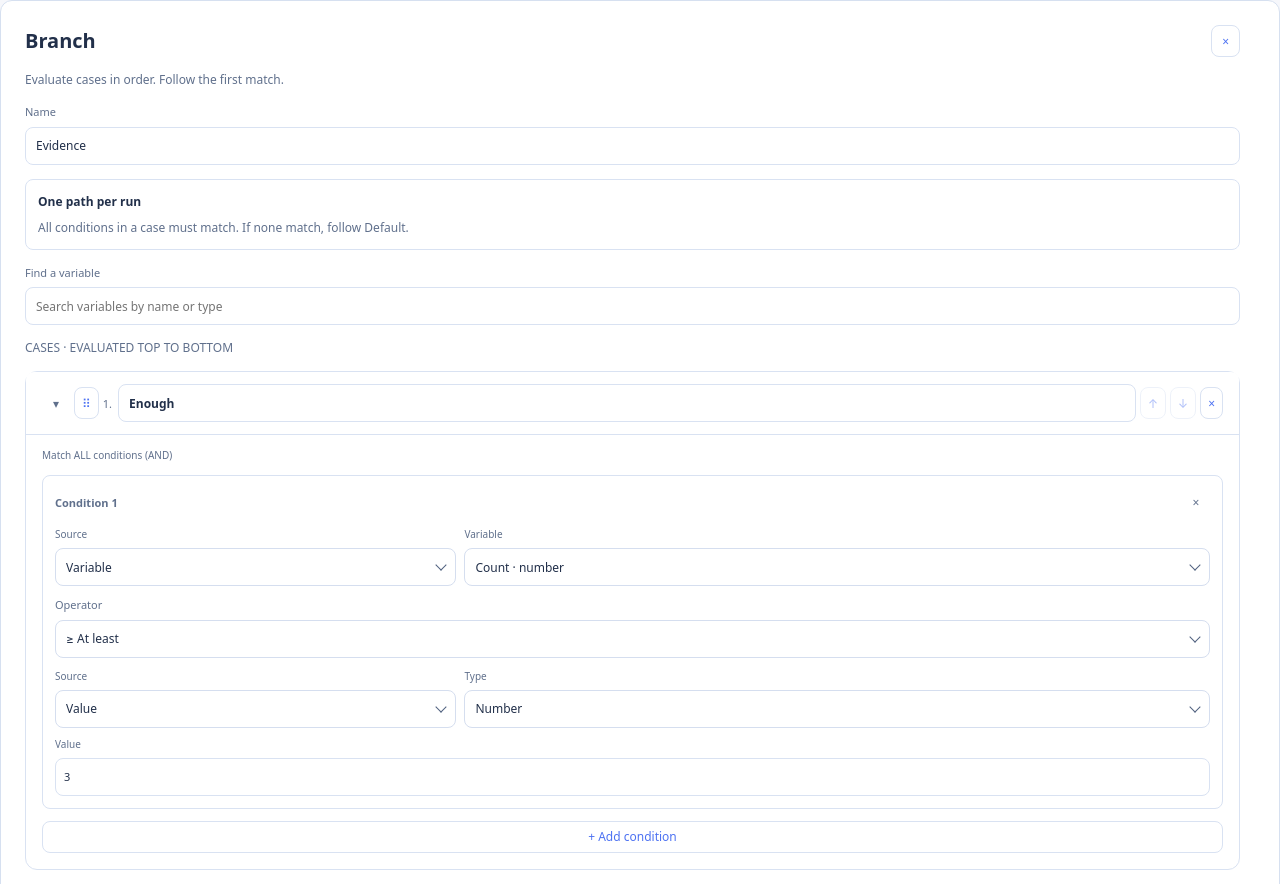
Test: Branch configuration › uses styled menus for source, variable and value type without applying the draft
Click the button "Count · number". click: (520, 567)
box: top-left (464, 548), bottom-right (1210, 586)
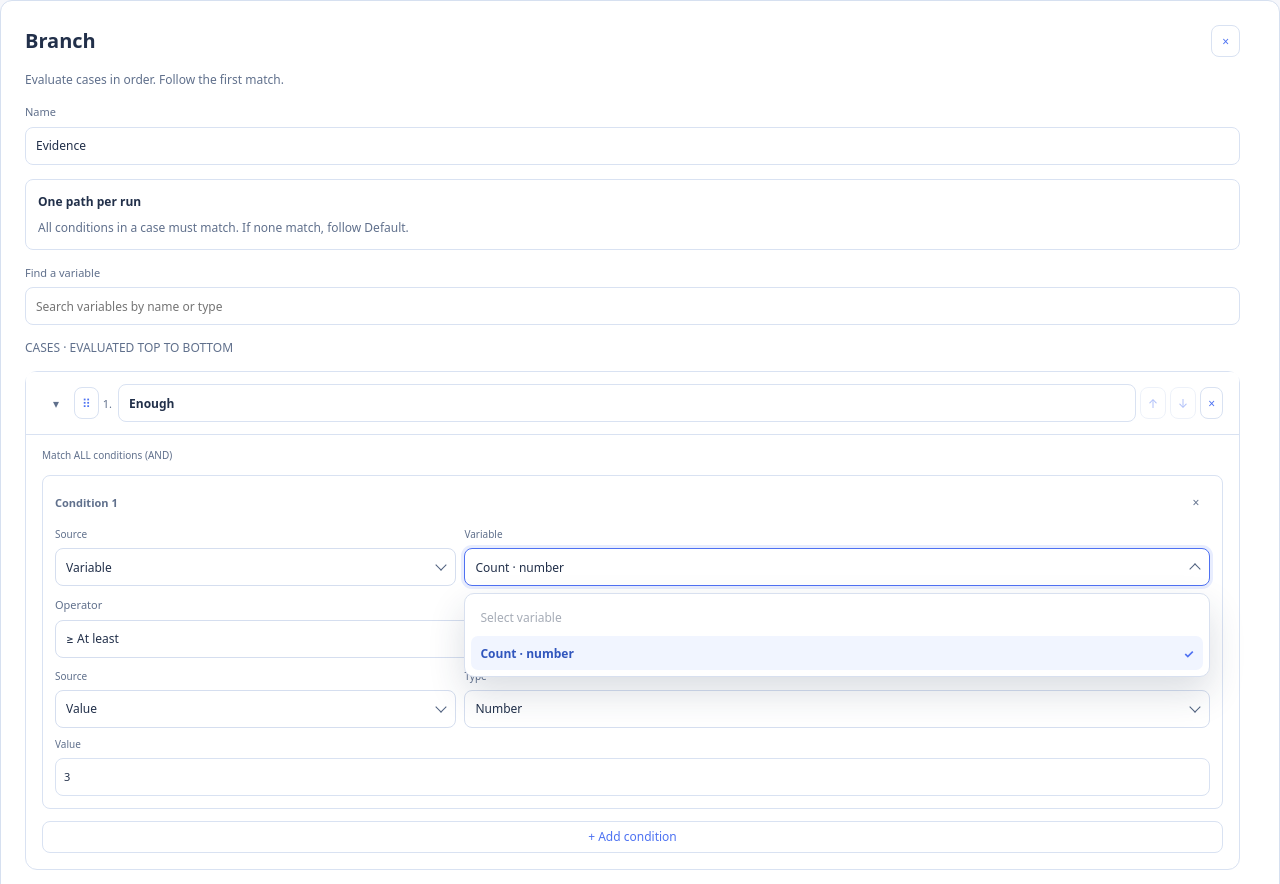
Press Escape in the list, box top-left (464, 593), bottom-right (1210, 677)
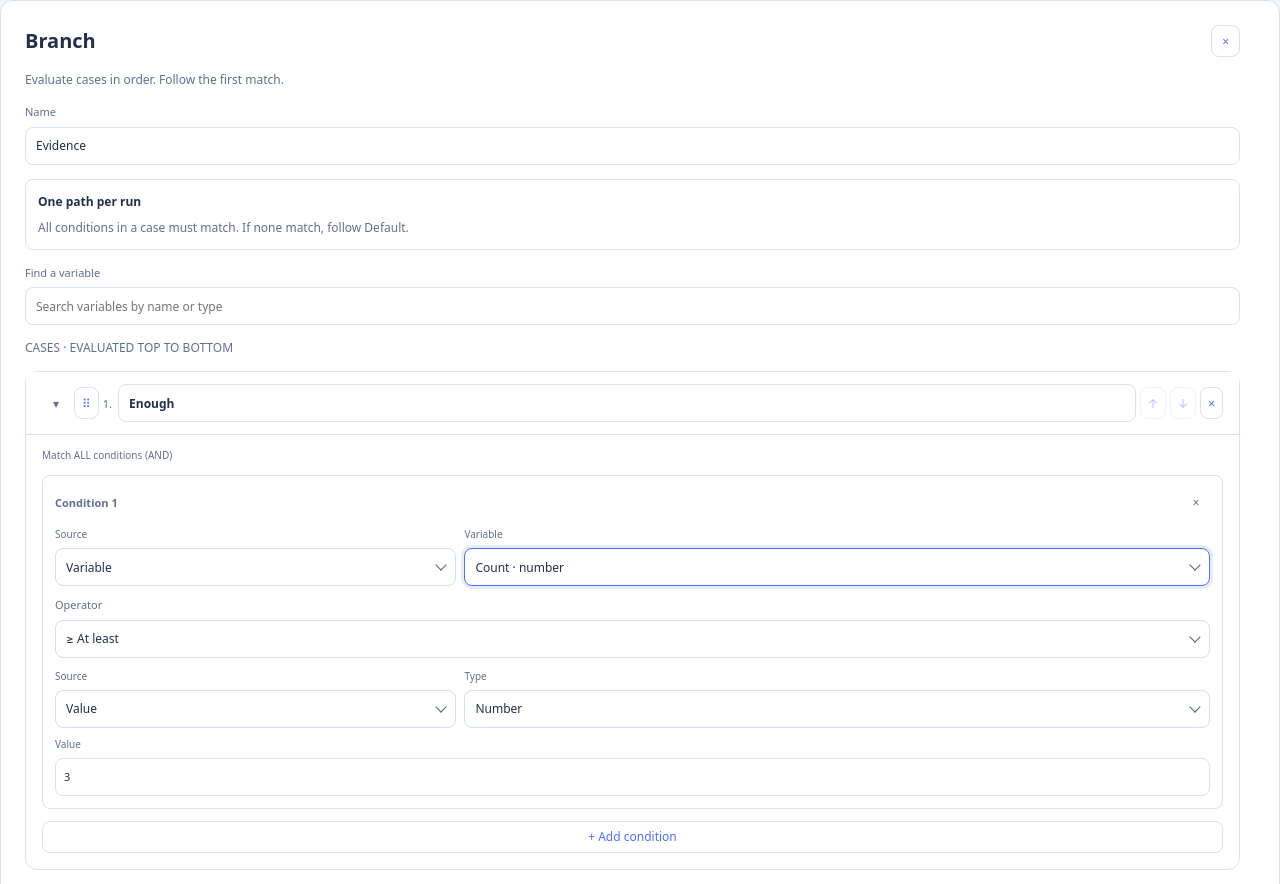
Click the button "Variable". click: (89, 567)
box: top-left (55, 548), bottom-right (456, 586)
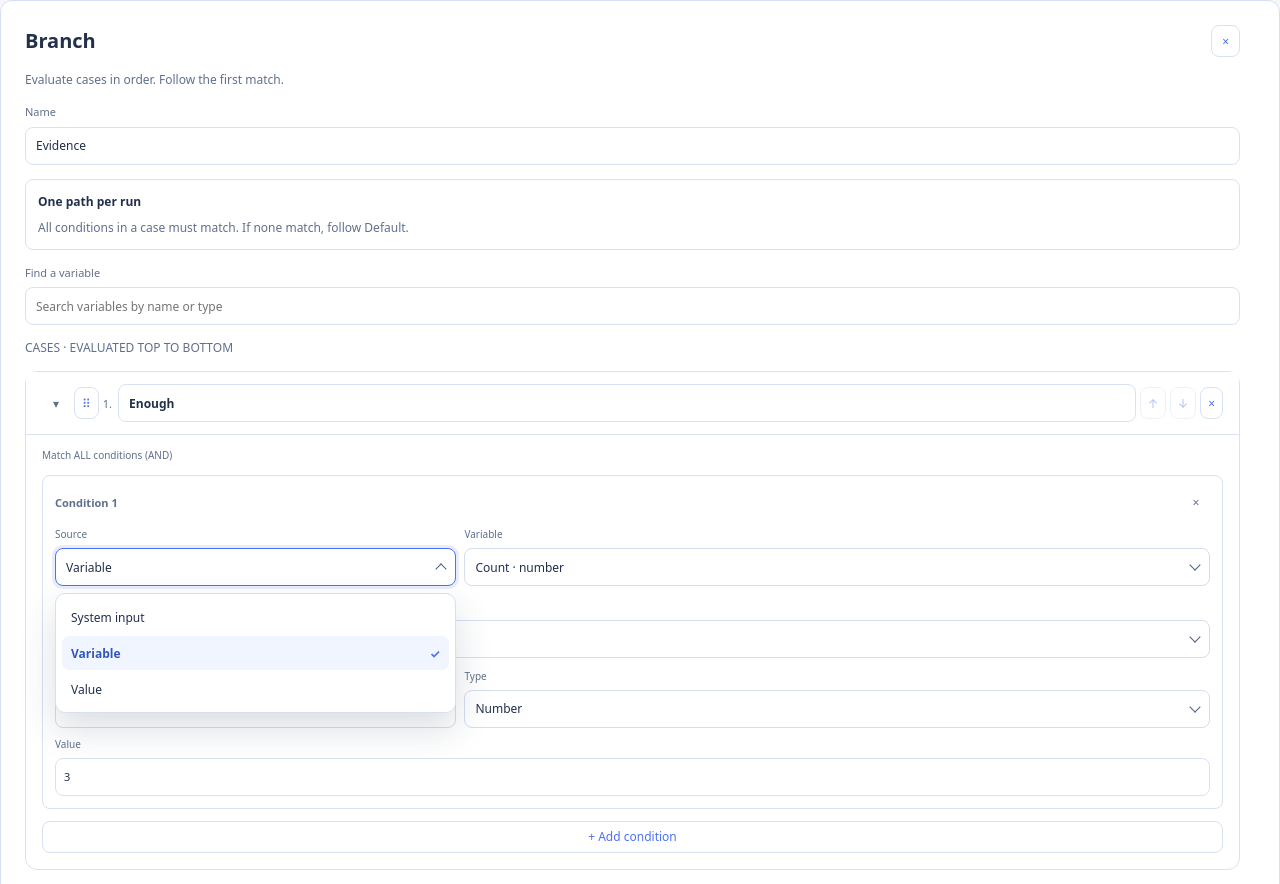
Click the option "Value". click: (86, 689)
box: top-left (62, 672), bottom-right (449, 706)
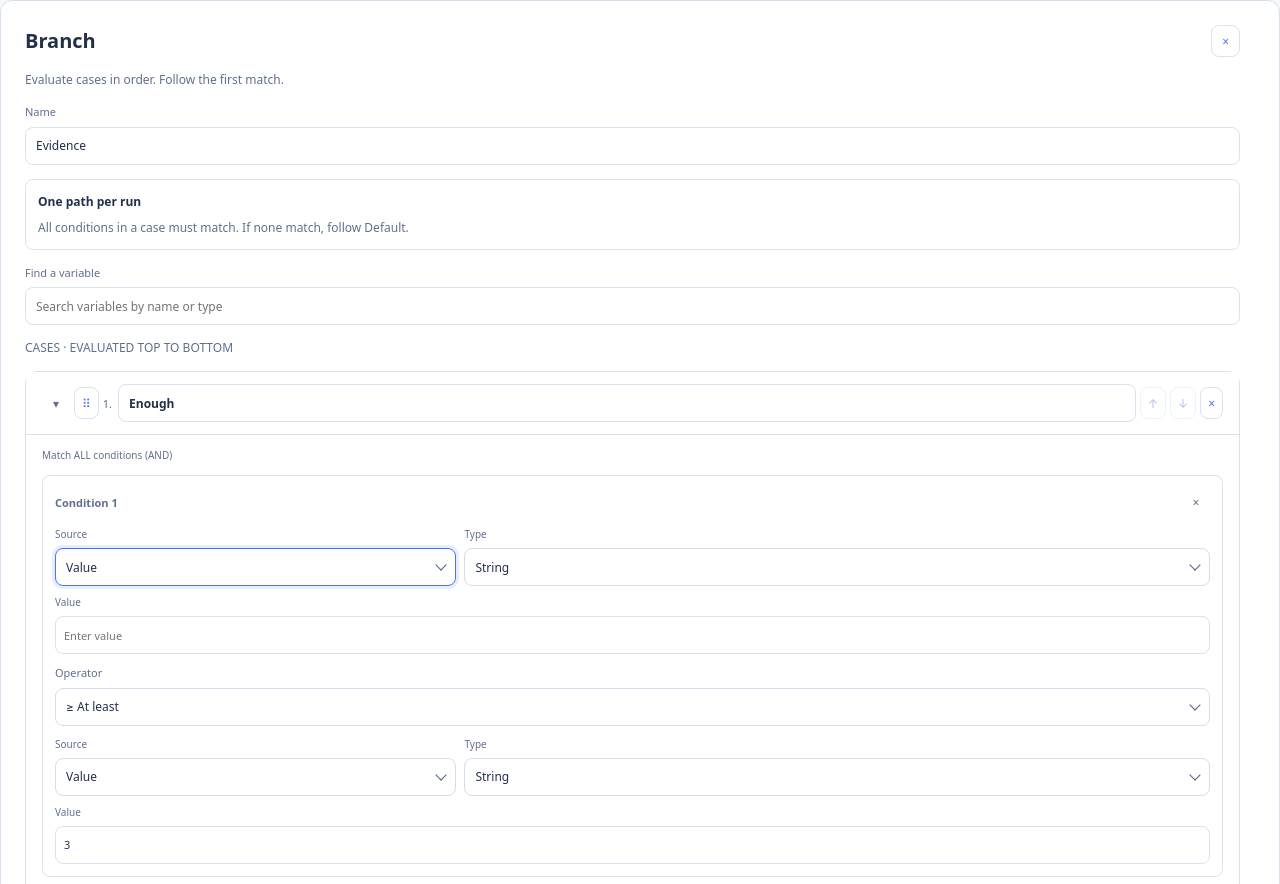
Click the 1st button "String". click: (492, 567)
box: top-left (464, 548), bottom-right (1210, 586)
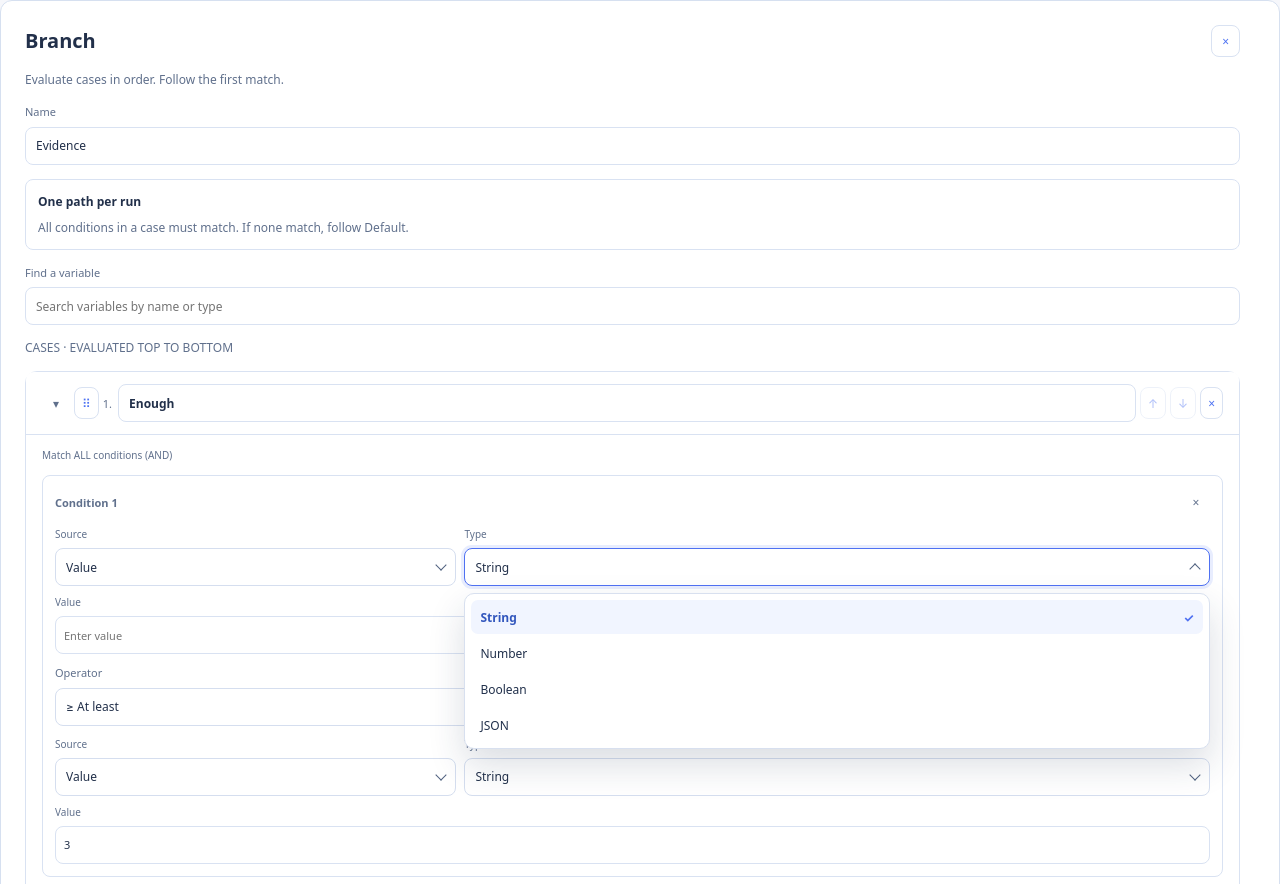
Click the option "Boolean". click: (504, 689)
box: top-left (471, 672), bottom-right (1203, 706)
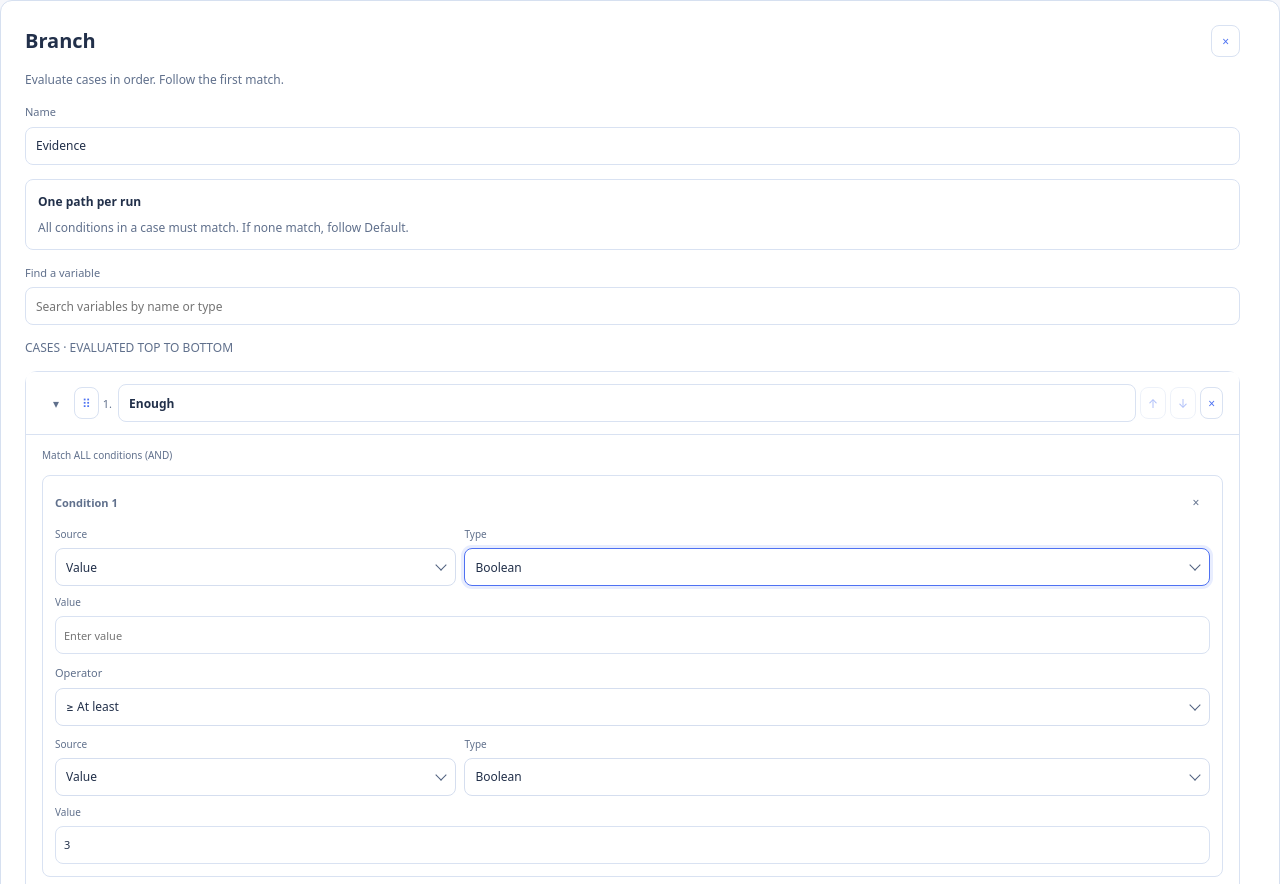
Check: the 1st button "Boolean" is shown, box top-left (464, 548), bottom-right (1210, 586)
